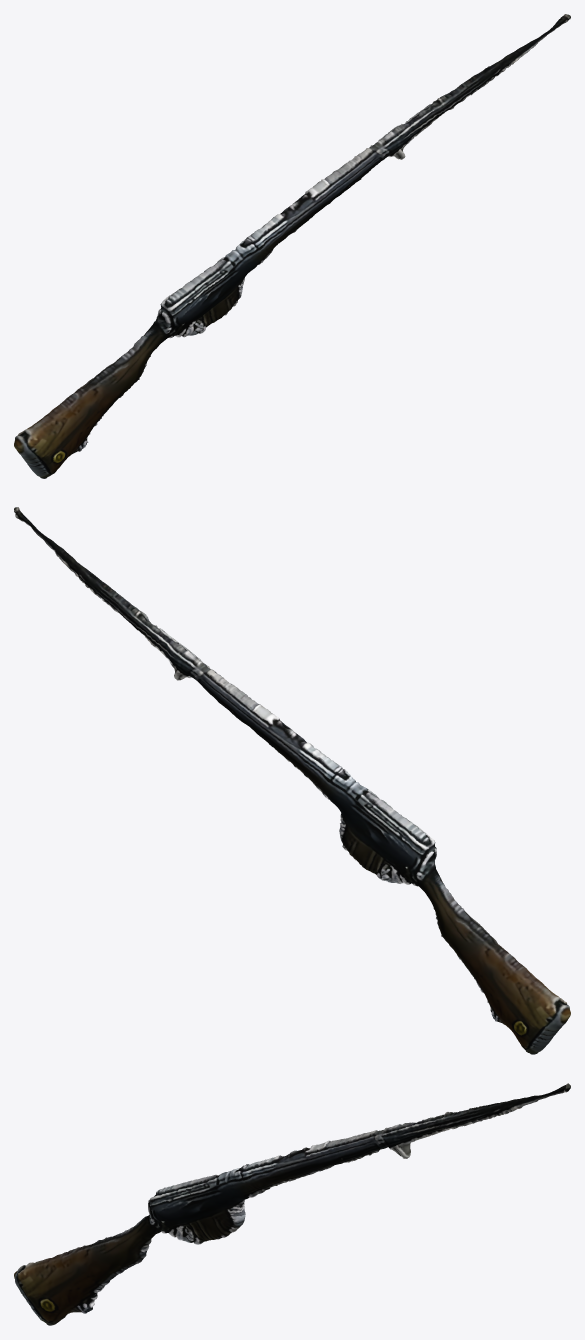
The model's file is kfl-2214.glb.
3 views of the same model, one above another, from view 1: azimuth 30°, elevation 25°; view 2: azimuth 150°, elevation 25°; view 3: azimuth 330°, elevation 25° (orthographic). The views are drawn at different scales.
Parts seen in each view (by area): view 1: kfl-2214; view 2: kfl-2214; view 3: kfl-2214.
Boxes of the visible parts, x1,y1,x2,y2 form: kfl-2214: [14, 14, 570, 478]; kfl-2214: [14, 507, 570, 1054]; kfl-2214: [14, 1083, 570, 1325].
Bounding box in the file's own units: 0.98 × 0.6353 × 0.1094.
Materials: 1 (1 with a texture image).
